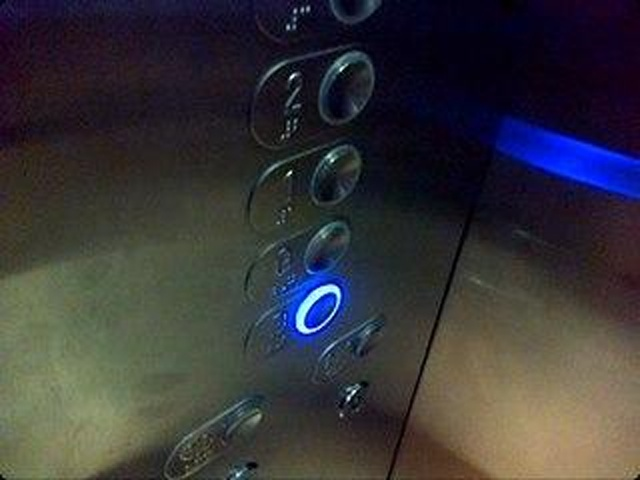1: (239, 137, 369, 221)
2: (246, 40, 382, 151)
blur: (239, 272, 352, 362), (239, 213, 357, 299), (160, 394, 268, 480), (306, 310, 395, 384), (334, 379, 374, 423)
